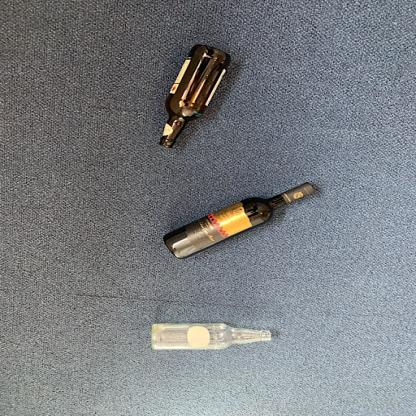trash: (160, 177, 315, 263), (152, 43, 229, 152), (148, 319, 271, 354)
